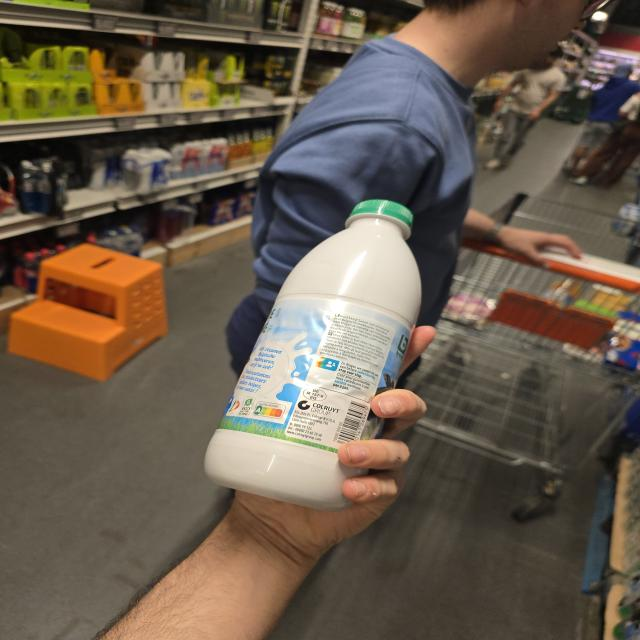Milk: (205, 199, 421, 510)
